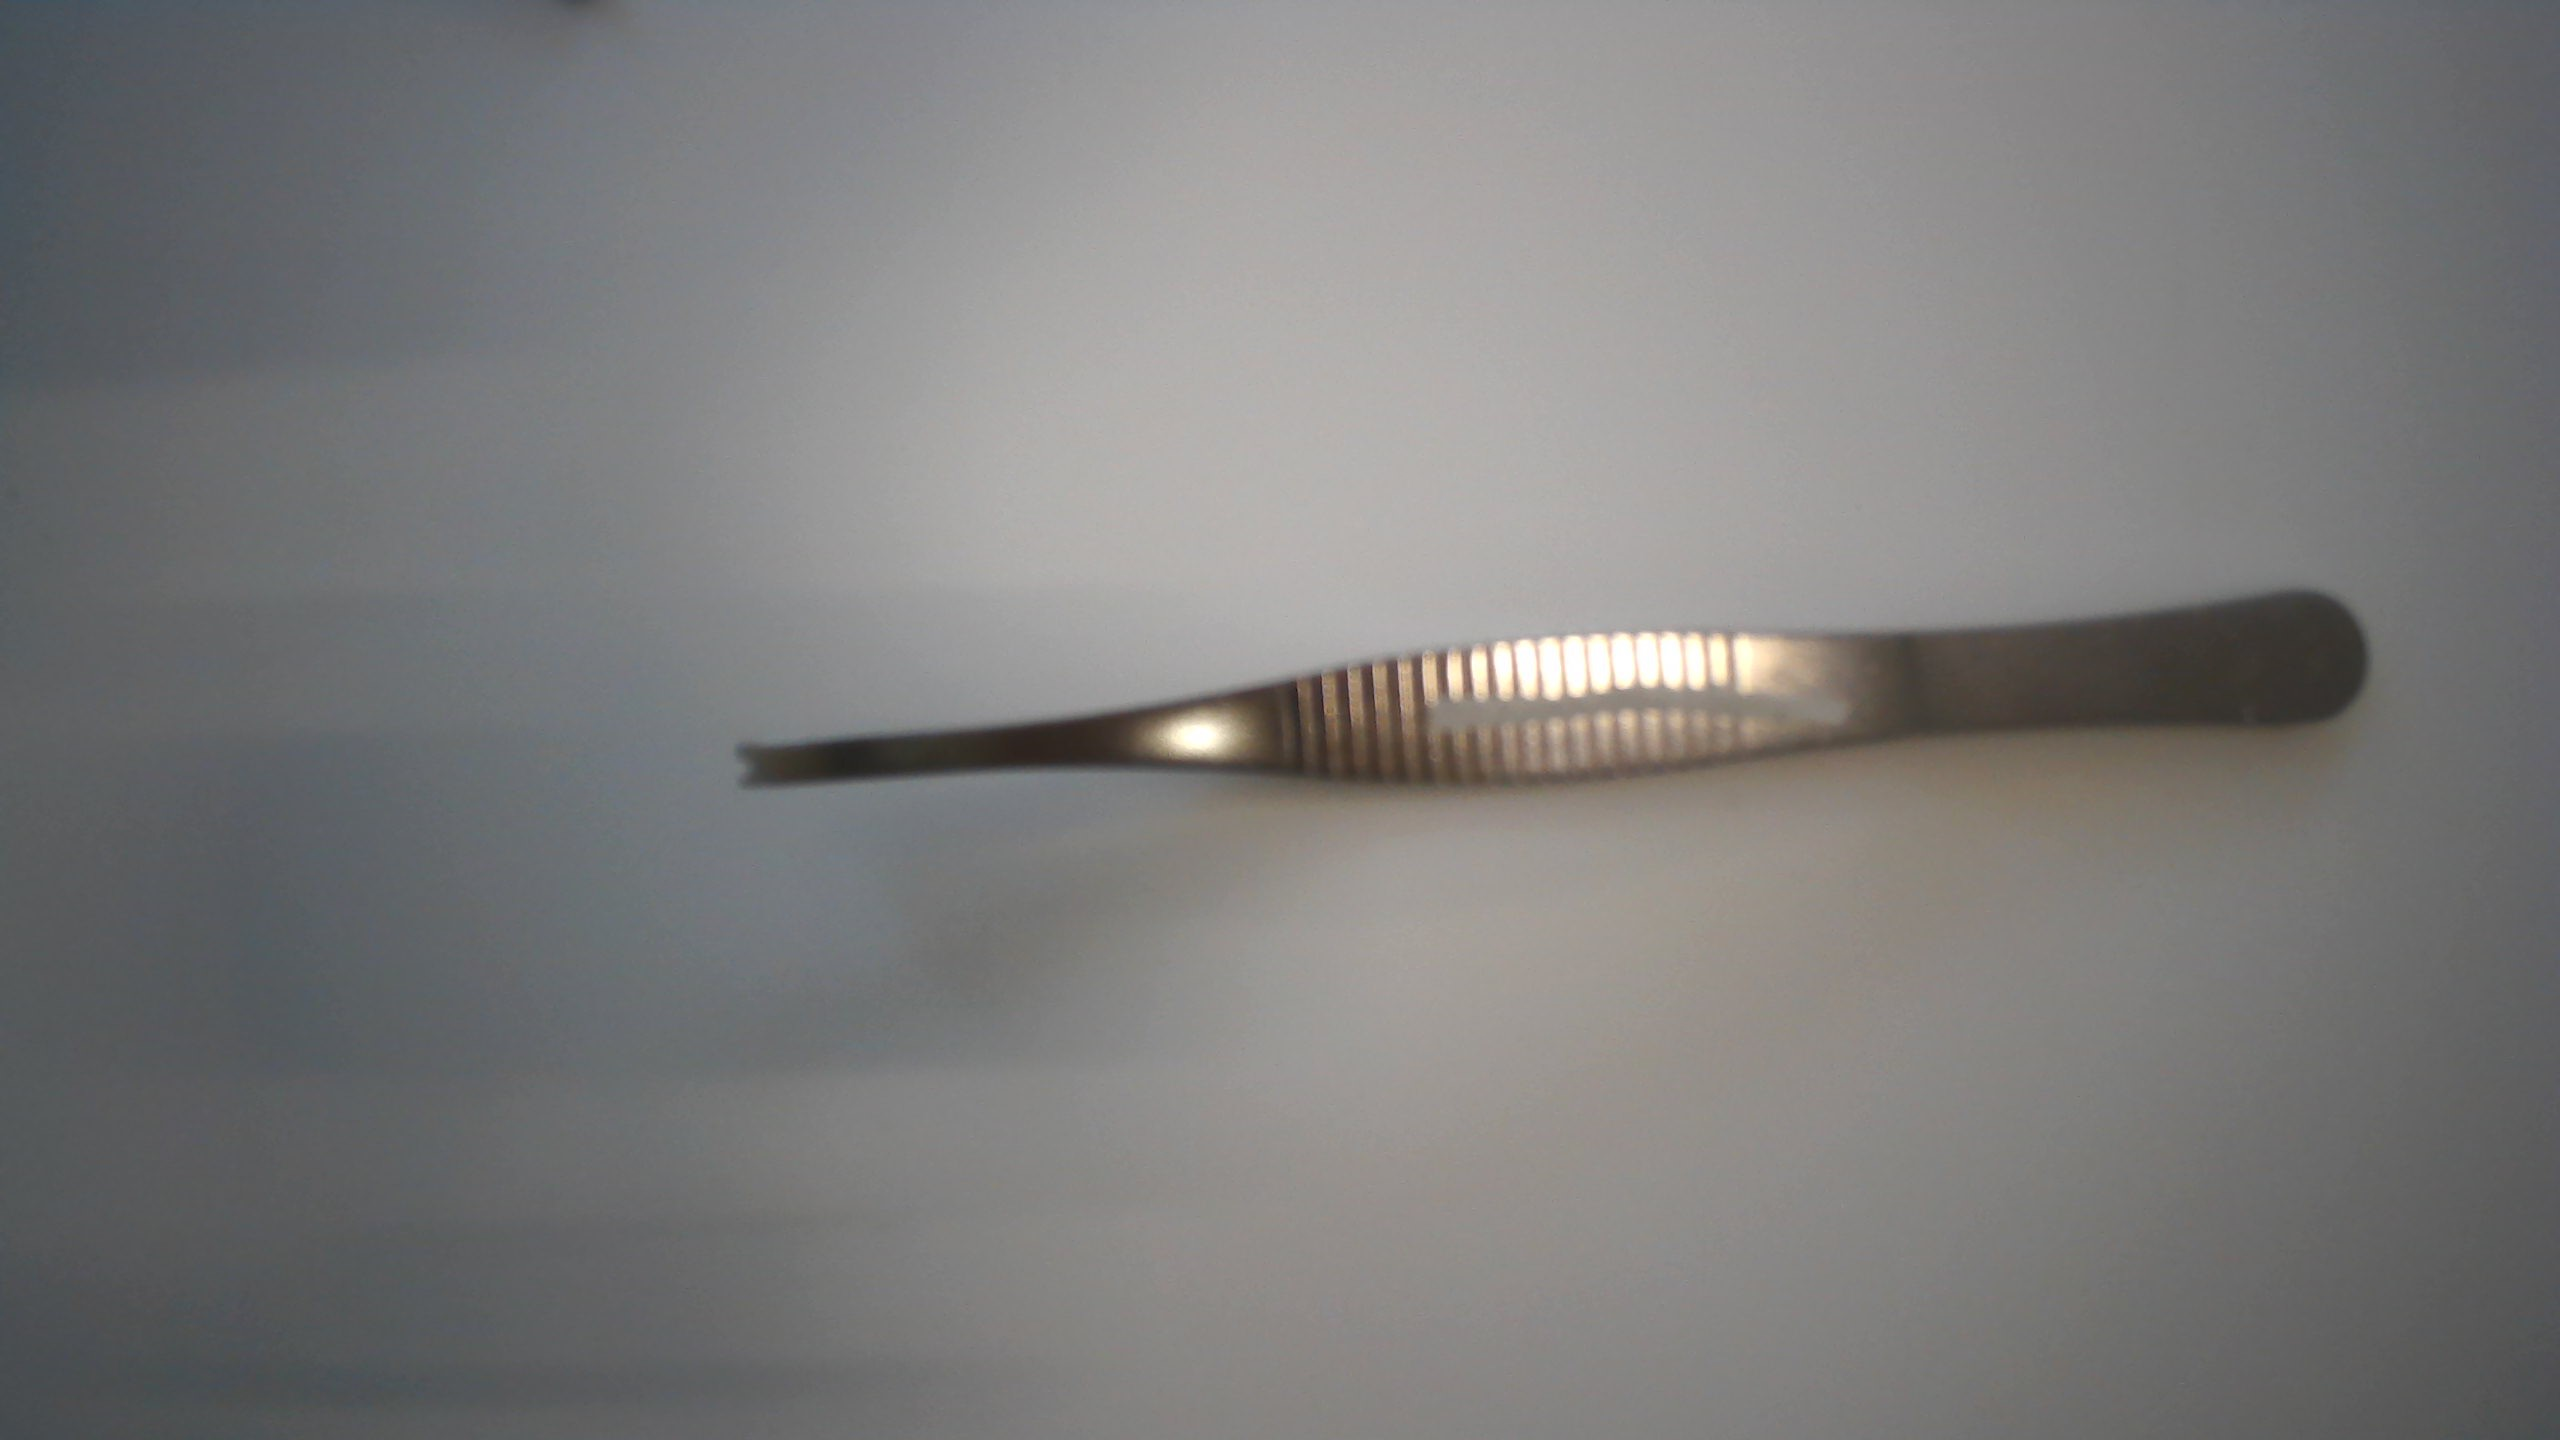Scratches: (1405, 672, 1874, 744)
